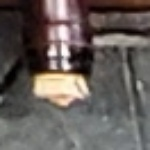bottle: (10, 21, 124, 123)
